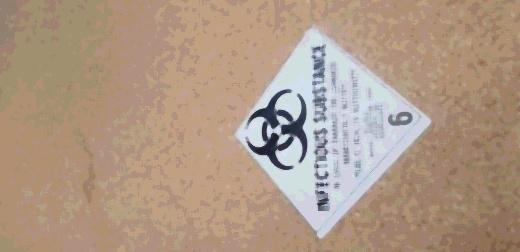infectious-substance: (234, 26, 436, 237)
